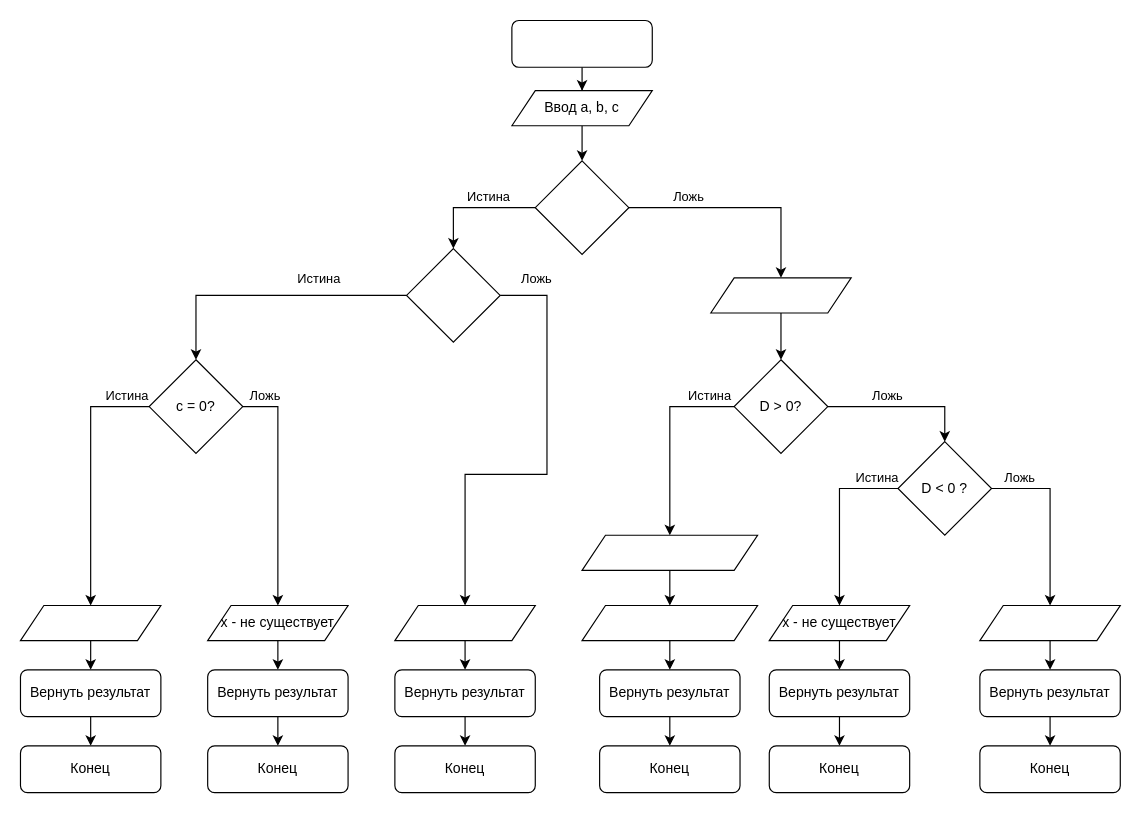
Some shapes in this 1141 by 813 pixel diagram are drawn without their labels. The centre of each missing label's shape, as x and y in pixels:
"a = 0?" belongs at [581,207].
"b = 0?" belongs at [452,294].
"D = b^2 - 4*a*c" belongs at [780,295].
"x - любое число" belongs at [90,622].
"x = -b / (2*a)" belongs at [1049,622].
"x = -c/b" belongs at [464,622].
"x1 = (-b+sqrt(D))/(2*a)" belongs at [669,622].
"x1 = (-b-sqrt(D))/(2*a)" belongs at [669,552].
"Начало" belongs at [581,43].
